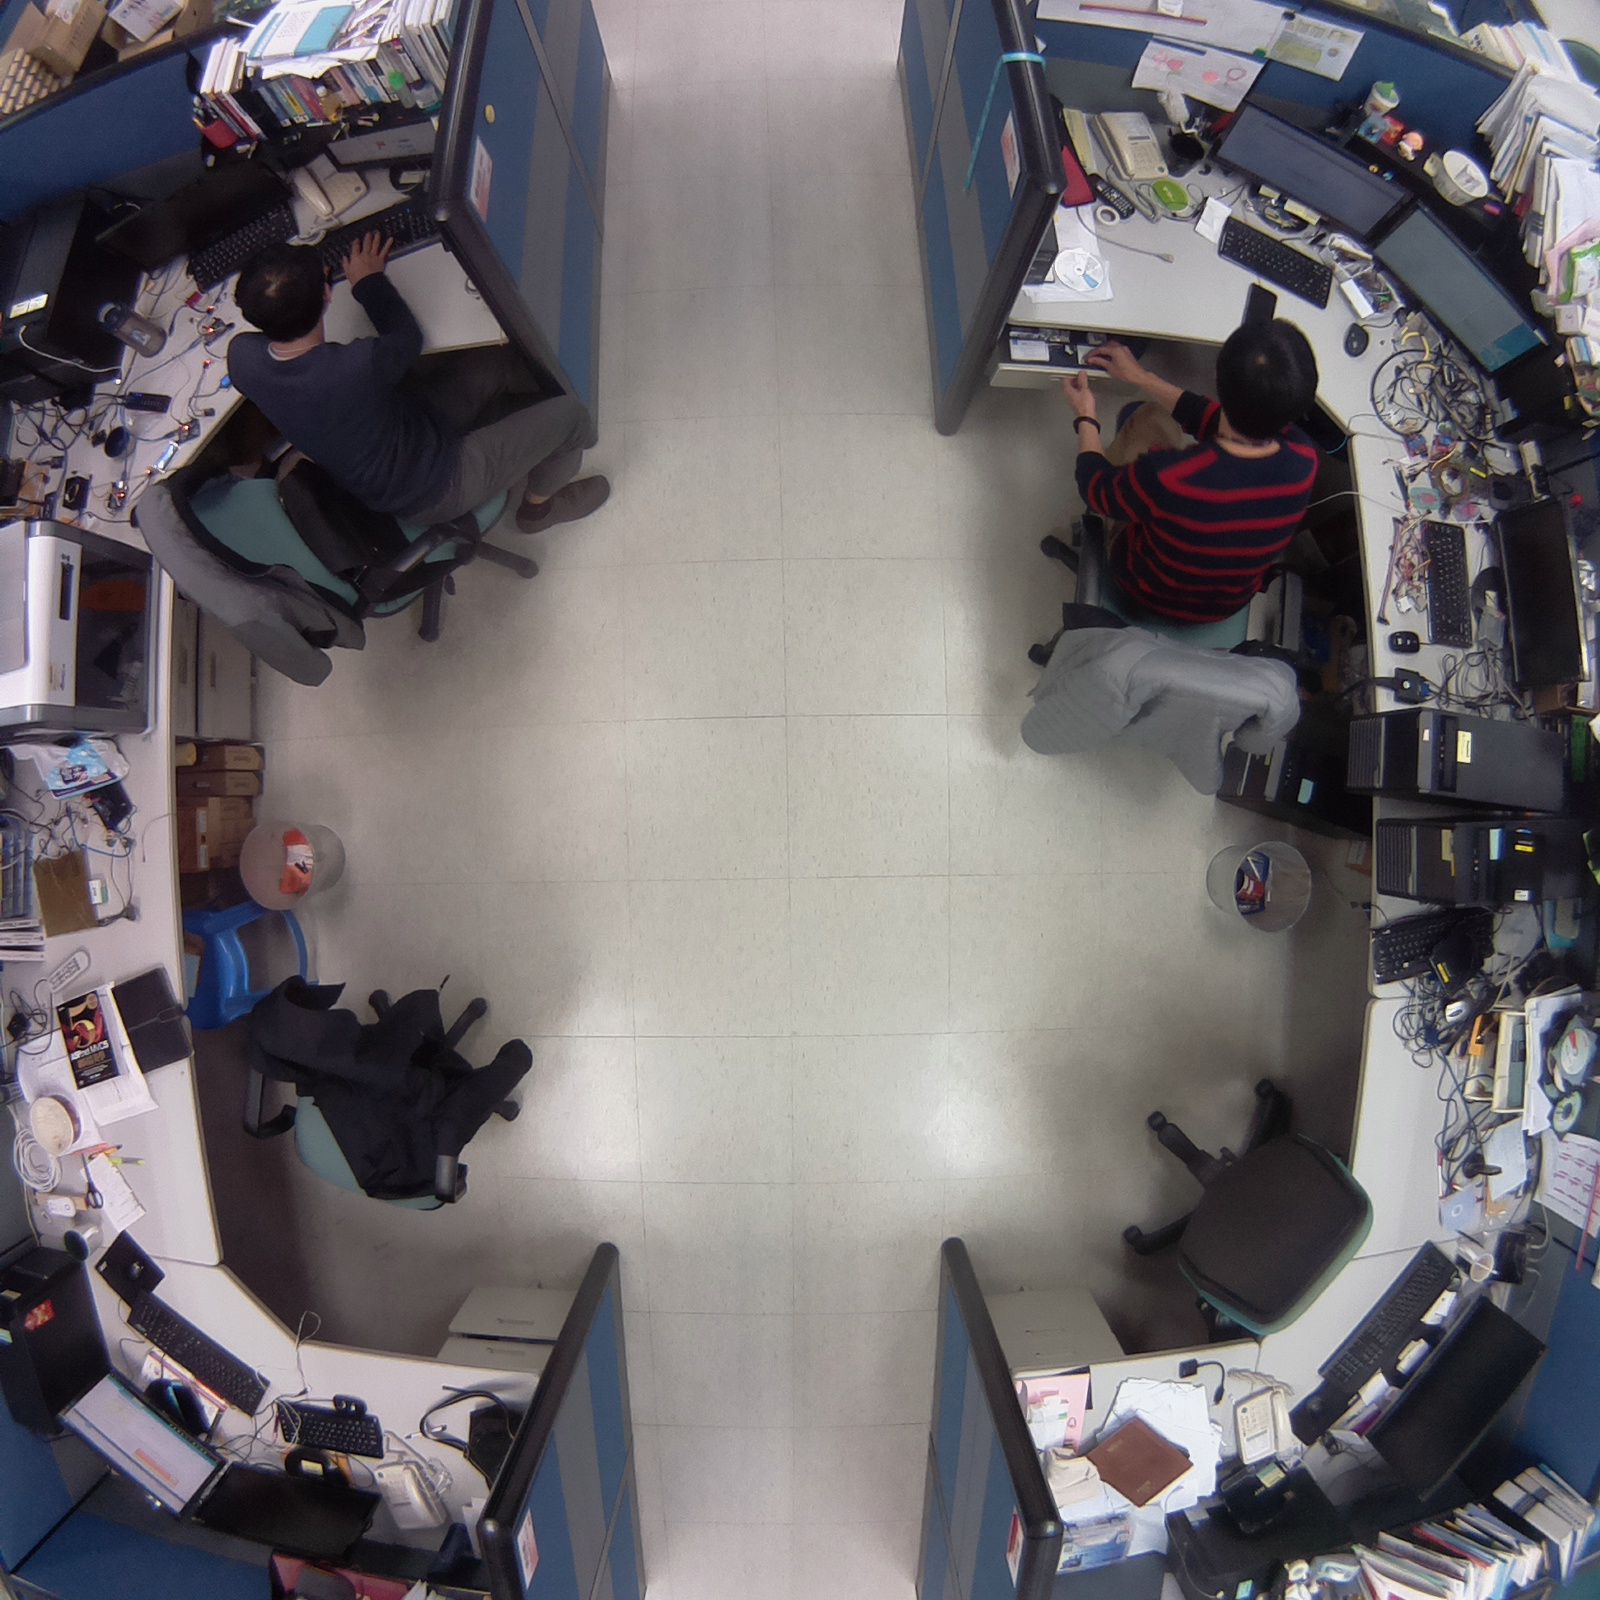chair: (211, 942, 560, 1237), (1092, 1055, 1392, 1366)
sitting: (116, 215, 624, 709), (982, 308, 1354, 809)
